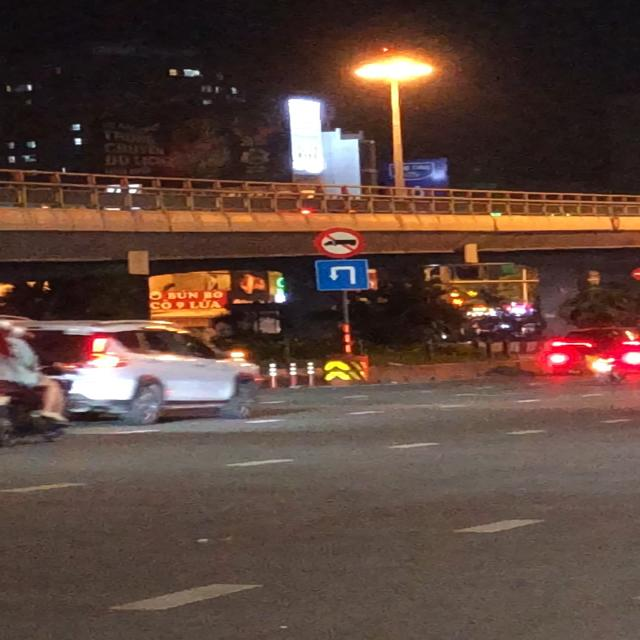Bien bao cam xe so-mi ro-mooc: (313, 227, 369, 259)
